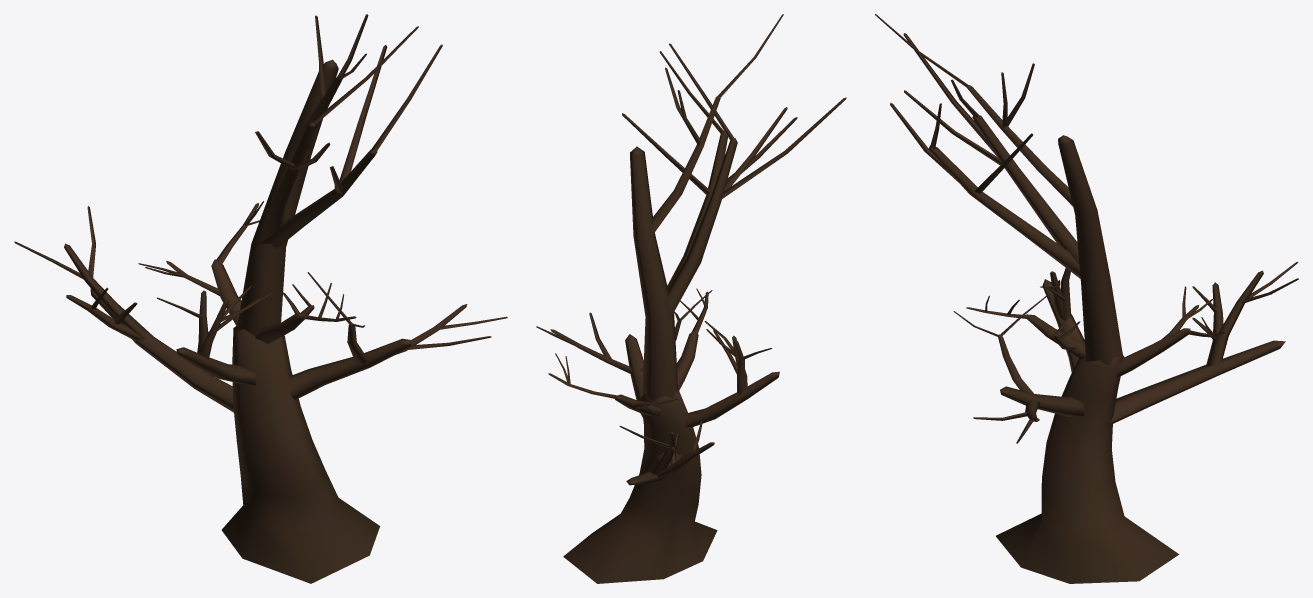
File: tree-bare-oak-a.glb
3 renders of one model, left to right at view 1: azimuth 30°, elevation 25°; view 2: azimuth 150°, elevation 25°; view 3: azimuth 270°, elevation 25°, orthographic. The views are drawn at different scales.
Parts seen in each view (by area): view 1: tree-bare-oak-a; view 2: tree-bare-oak-a; view 3: tree-bare-oak-a.
Boxes of the visible parts, bbox=[...] form: tree-bare-oak-a: bbox=[14, 14, 507, 583]; tree-bare-oak-a: bbox=[536, 14, 846, 583]; tree-bare-oak-a: bbox=[875, 14, 1298, 583].
Size of the model in its own units: 1.02 by 1.7 by 1.26.
